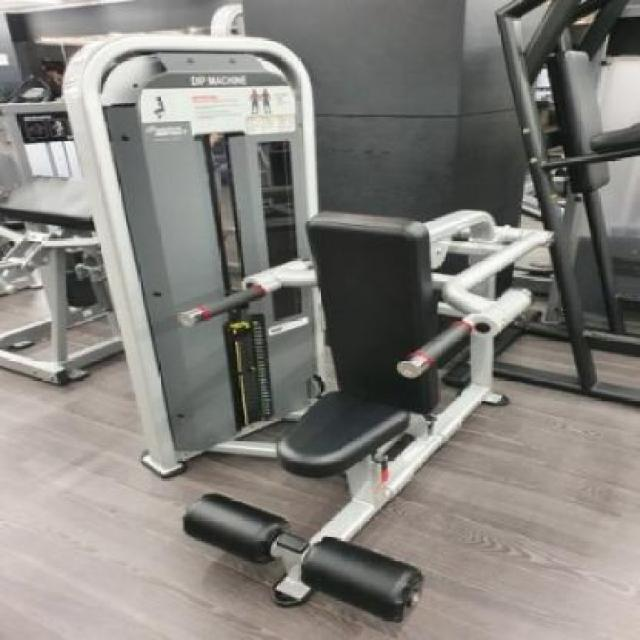seated dip machine: (61, 34, 558, 621)
